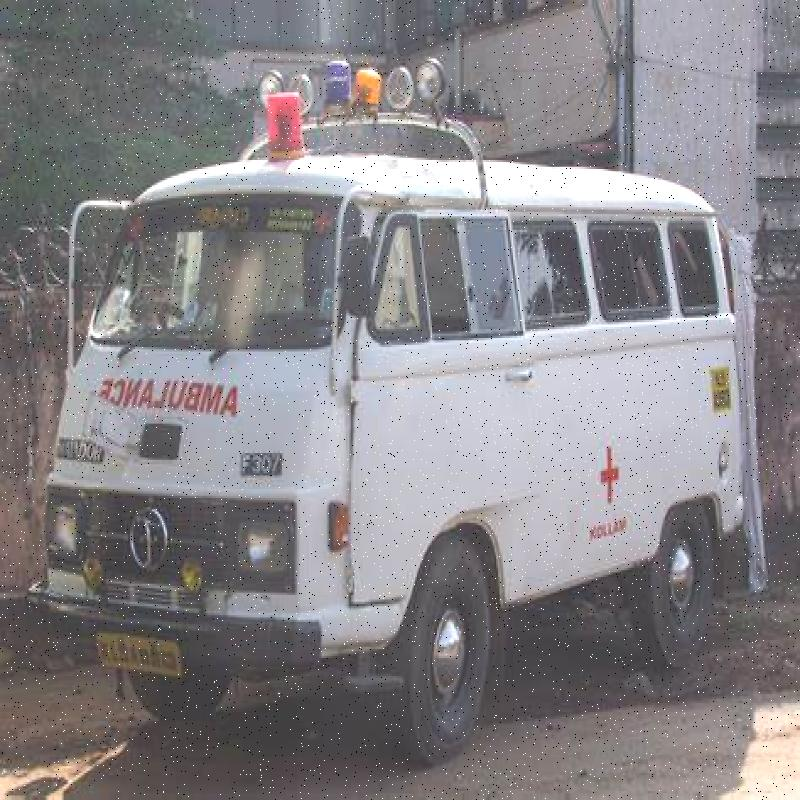AmbulanceSiren: (258, 52, 308, 174)
